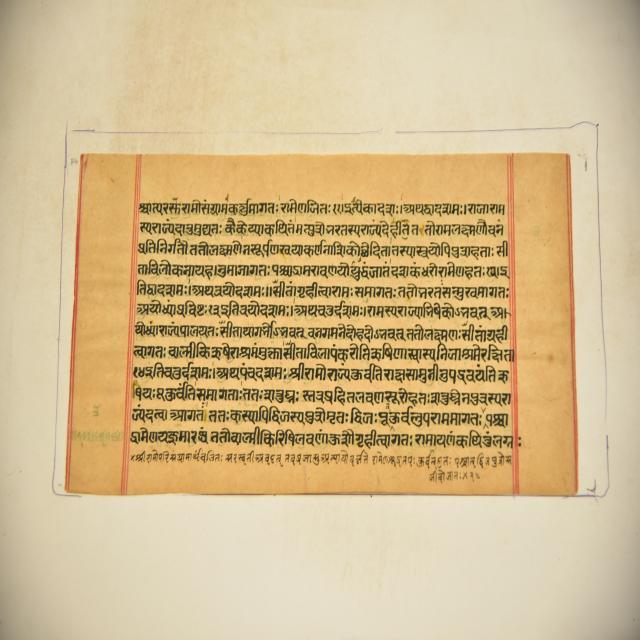text_paragraph: (65, 156, 574, 494)
